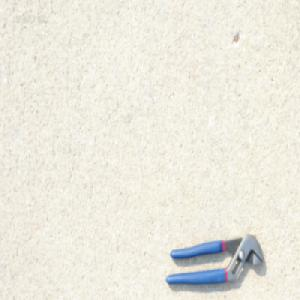Pliers: (164, 232, 264, 286)
